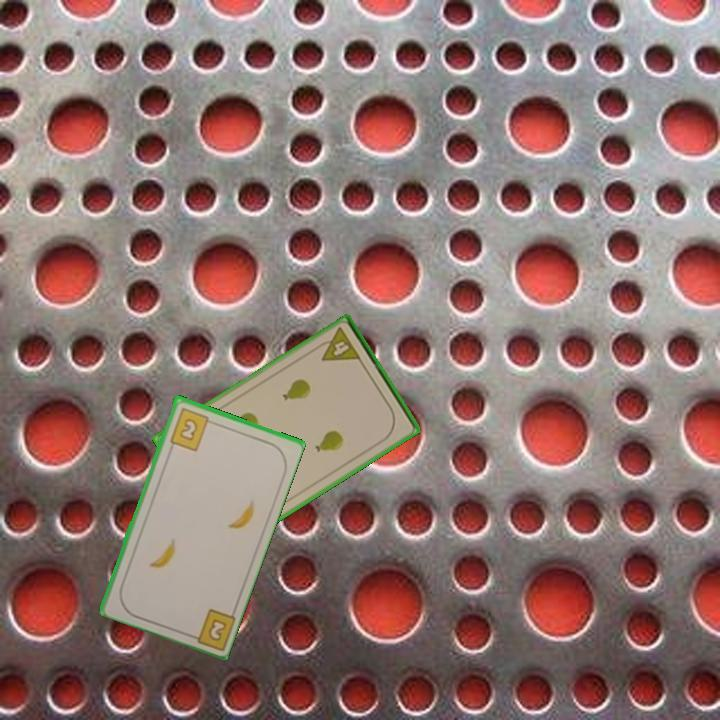2b: (166, 404, 216, 453), (184, 605, 237, 651)
4p: (312, 324, 364, 365)
